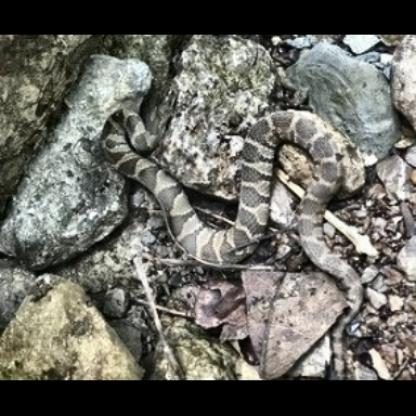Snake: (98, 104, 368, 308)
